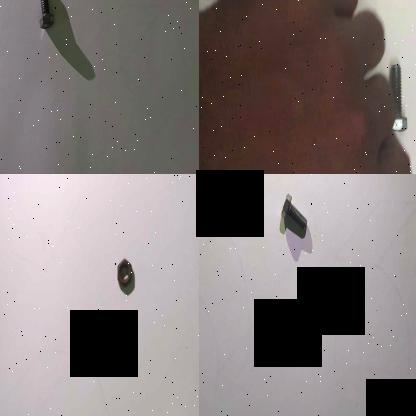Bolts: (275, 190, 311, 236), (388, 53, 406, 134), (31, 0, 55, 29)
NUTS: (115, 256, 132, 288)
